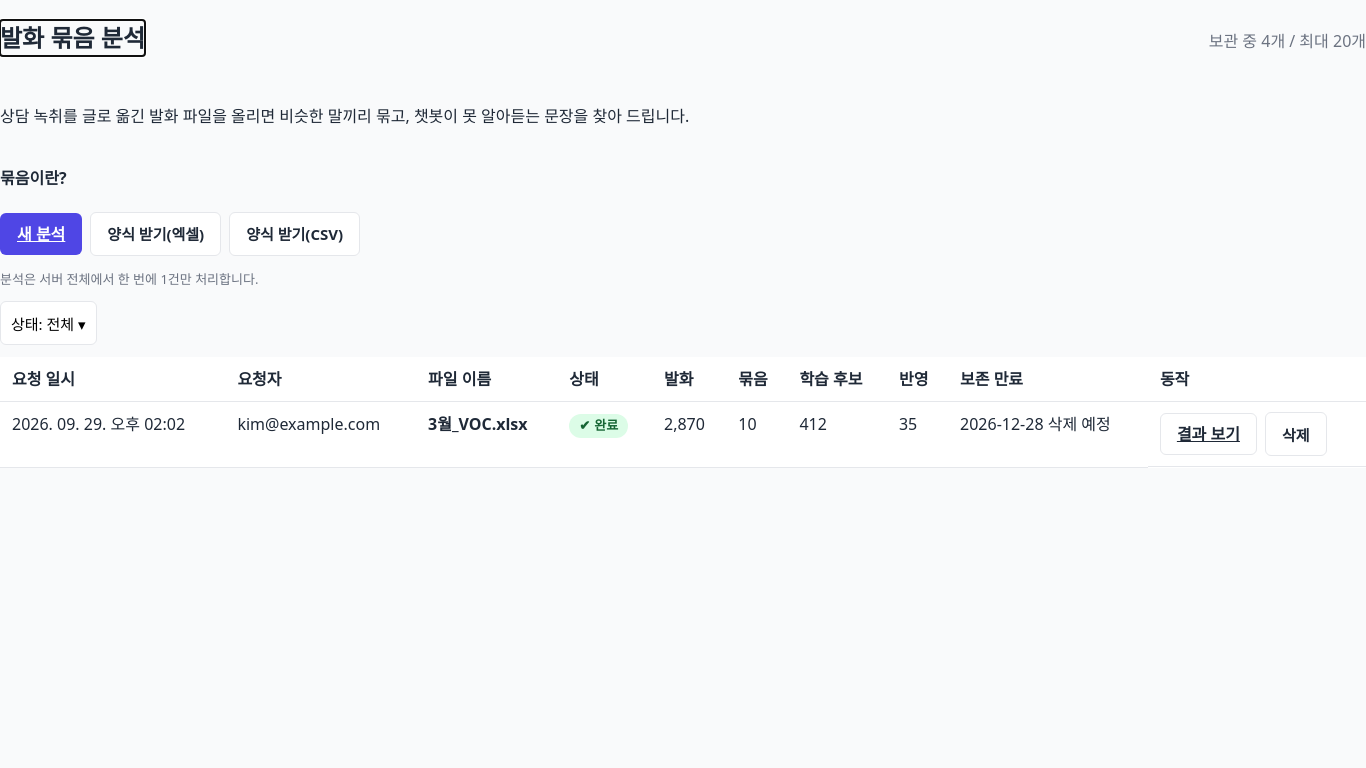
Test case: UtteranceAnalysisListPage — 삭제(UA-3b) › 409(처리 중)이면 대화상자 안에 원인+해결 문구를 보인다
Click the button with aria-label "3월_VOC.xlsx 삭제" at point(1296, 434), box top-left (1265, 412), bottom-right (1326, 456)
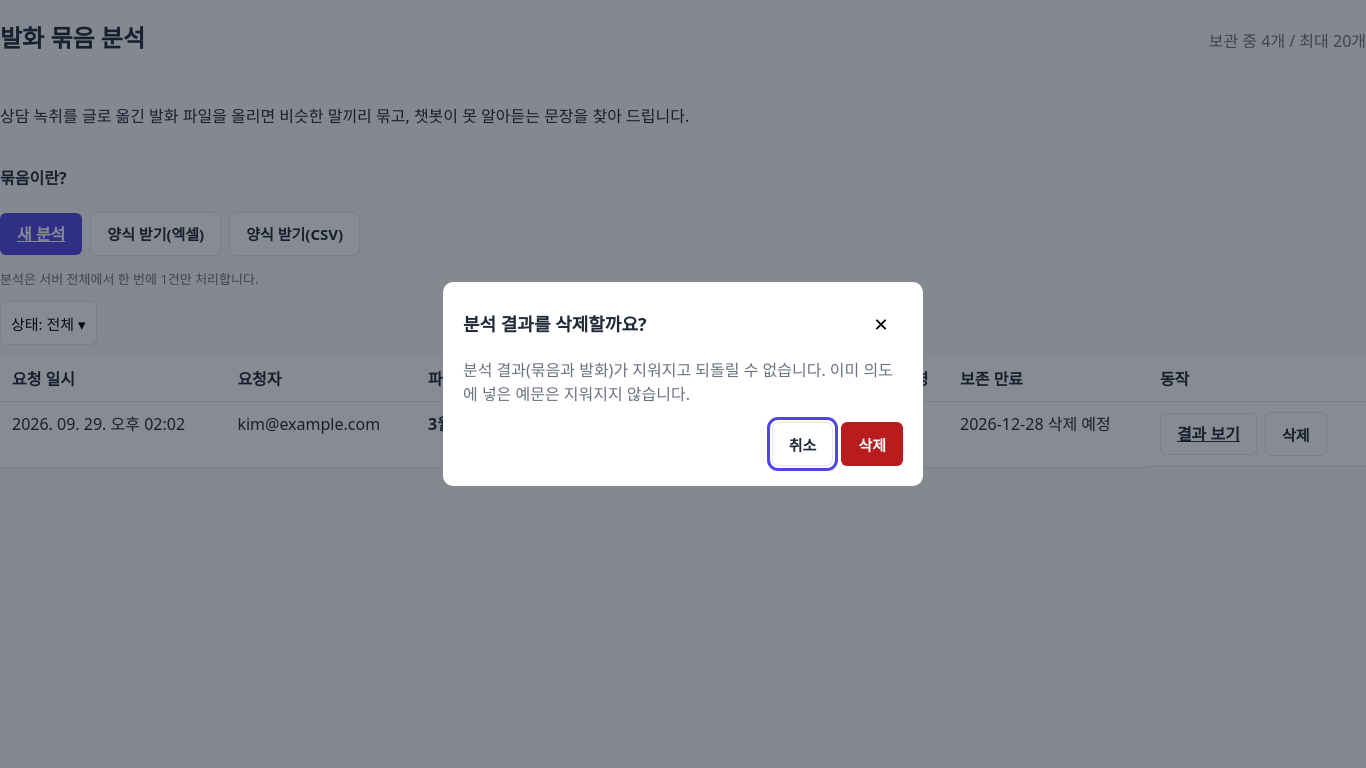
Click the button "삭제" at point(872, 444), box top-left (841, 422), bottom-right (903, 466)
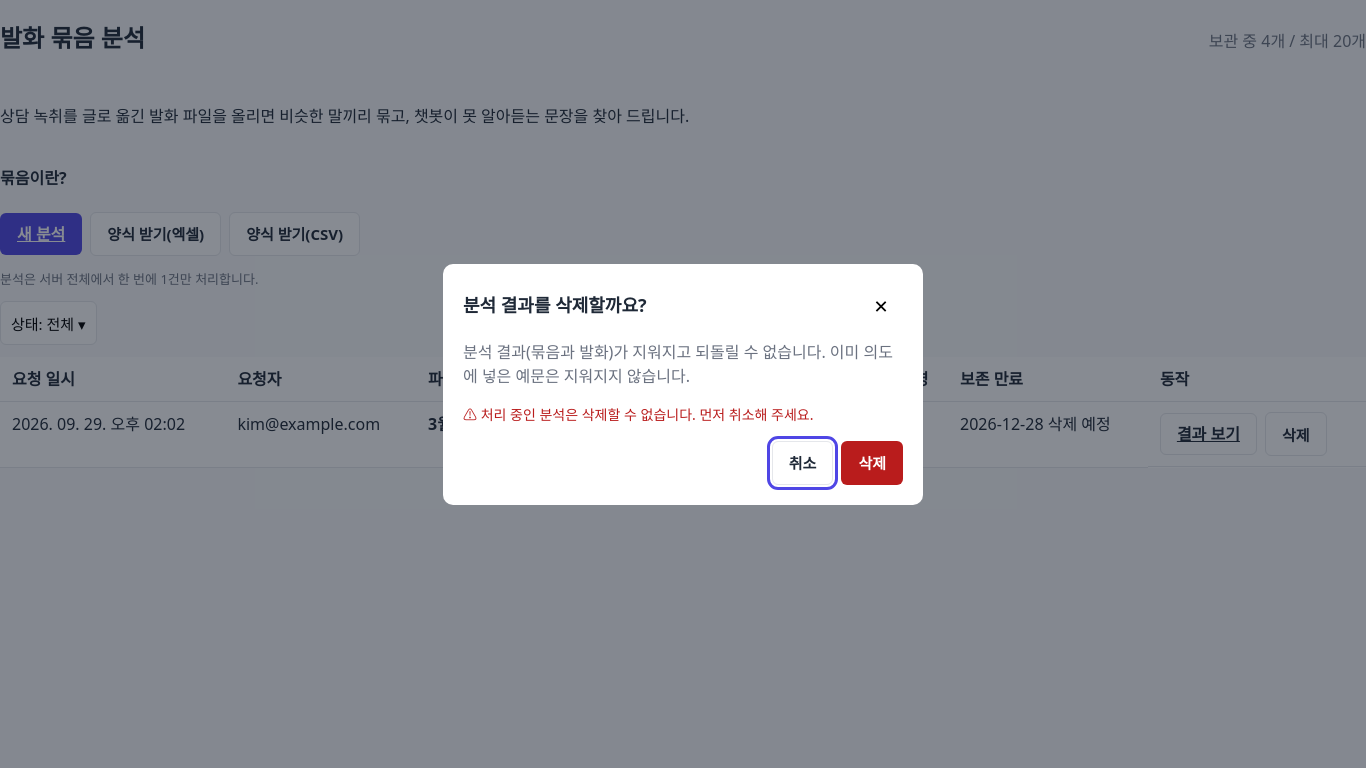
Expected: the message shows "처리 중인 분석은 삭제할 수 없습니다. 먼저 취소해 주세요.", top-left (481, 404), bottom-right (814, 424)
